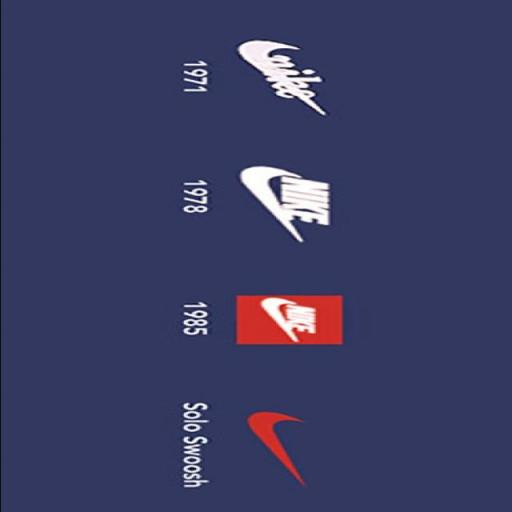Nike: (237, 410, 307, 488)
